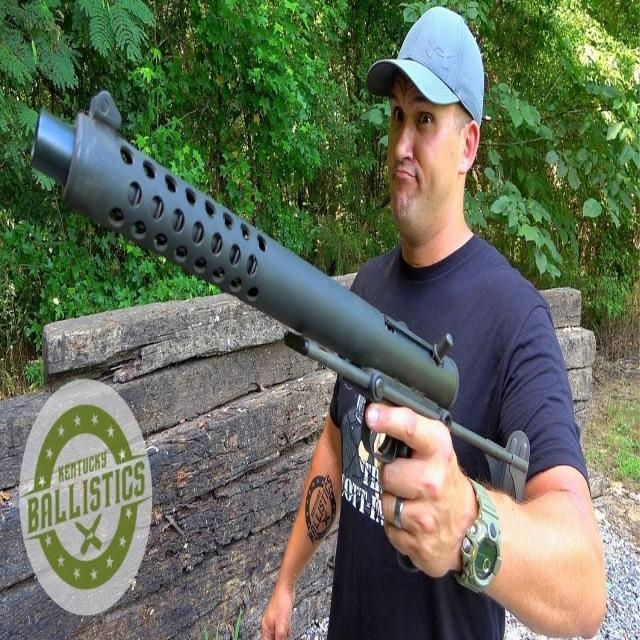Weapon: (26, 84, 536, 536)
